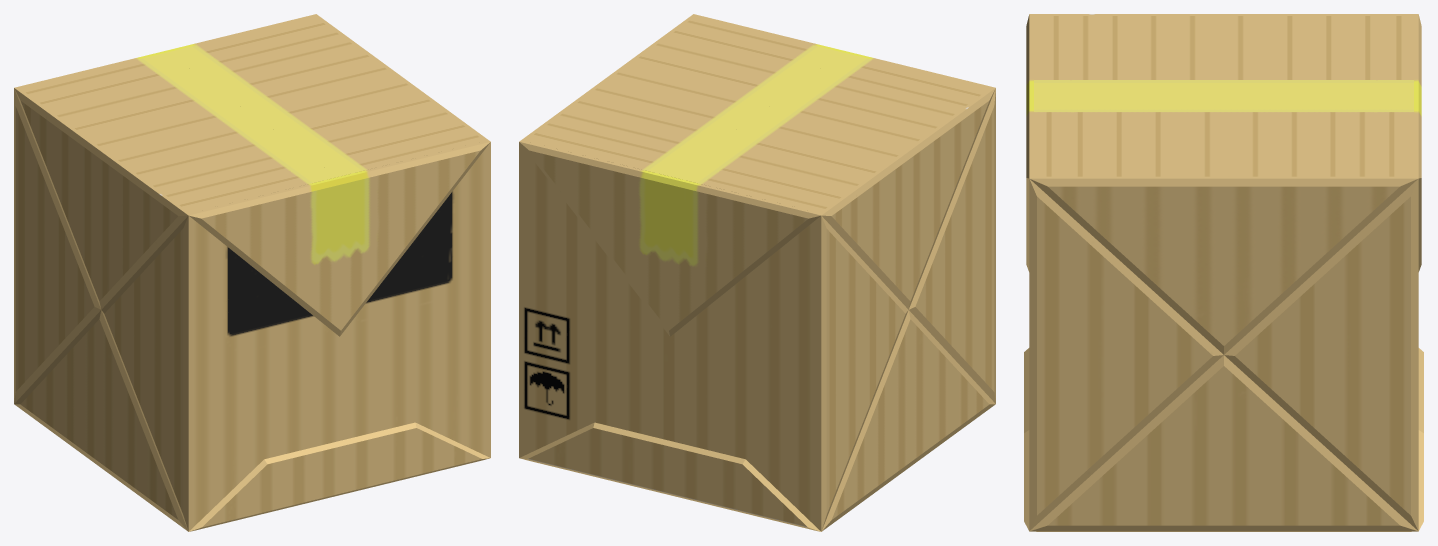
Rendered from Caixa.fbx.
3 views of the same model, side by side, from view 1: azimuth 30°, elevation 25°; view 2: azimuth 150°, elevation 25°; view 3: azimuth 270°, elevation 25° (orthographic). The views are drawn at different scales.
Visible parts, largest first — view 1: Caixa.001, Aba 1.001, Aba 1.003; view 2: Caixa.001, Aba 1.001, Aba 1.003; view 3: Caixa.001, Aba 1.001, Aba 1.003.
Boxes of the visible parts, x1,y1,x2,y2 form: Caixa.001: (14, 14, 490, 531); Aba 1.001: (20, 52, 336, 212); Aba 1.003: (168, 16, 484, 176); Caixa.001: (519, 14, 995, 531); Aba 1.001: (673, 52, 989, 212); Aba 1.003: (525, 16, 841, 176); Caixa.001: (1024, 14, 1423, 531); Aba 1.001: (1034, 16, 1413, 96); Aba 1.003: (1034, 96, 1413, 176).
Size of the model in its own units: 202 by 201 by 205.
3 materials, 3 textured.
